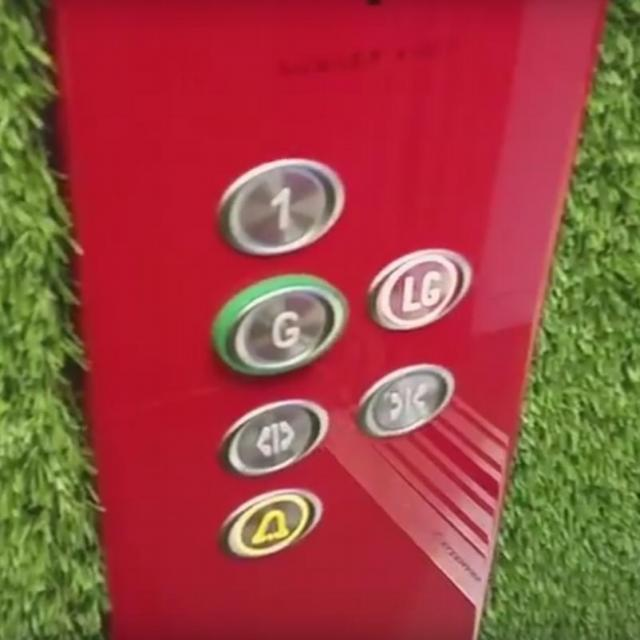1: (214, 156, 345, 258)
G: (209, 272, 350, 378)
LG: (366, 247, 472, 331)
alarm: (217, 488, 324, 556)
close: (353, 364, 455, 436)
open: (214, 396, 329, 476)
